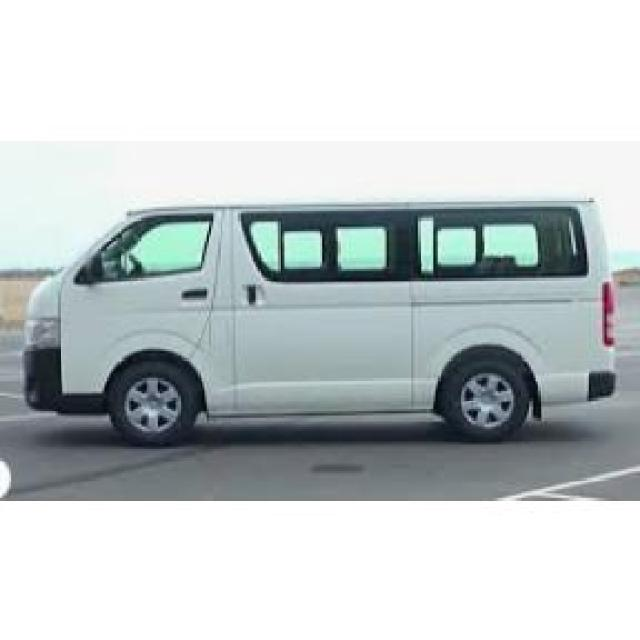Van: (14, 189, 620, 452)
